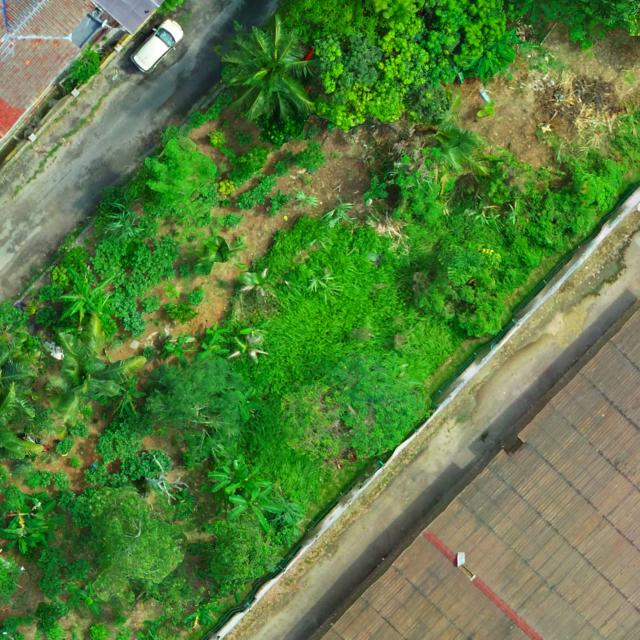Tree: (275, 0, 512, 132), (281, 356, 434, 463), (86, 483, 186, 607), (148, 352, 260, 460), (47, 311, 148, 422), (218, 14, 320, 119), (208, 519, 284, 592), (0, 381, 46, 498), (529, 0, 640, 44), (0, 498, 68, 553), (58, 266, 117, 324), (0, 332, 38, 419), (227, 482, 285, 535), (206, 448, 262, 496), (230, 321, 271, 363), (111, 378, 147, 419), (160, 330, 197, 369), (509, 0, 562, 26), (362, 175, 388, 207), (204, 322, 229, 345)
